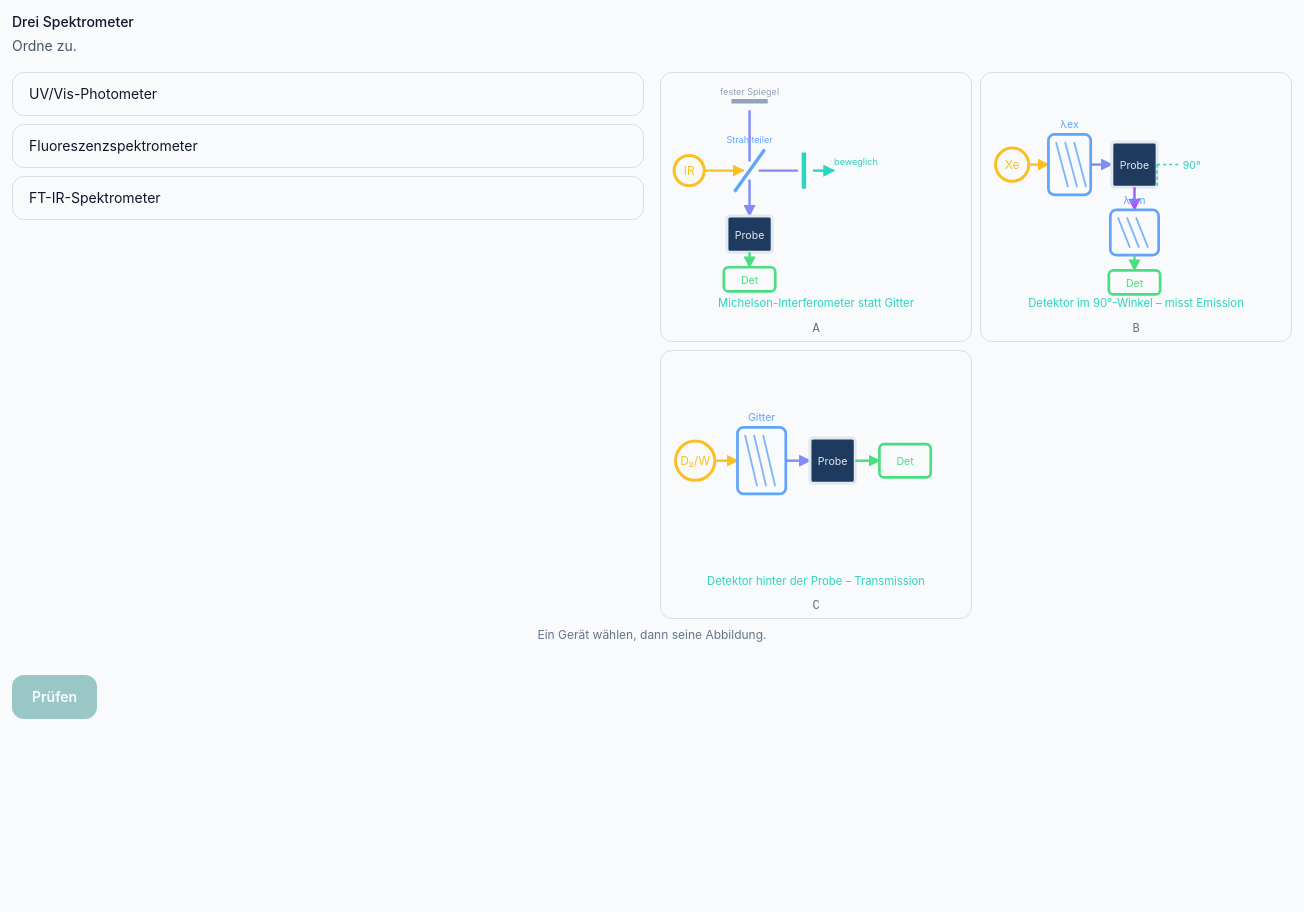
Test: Prüfen › zeigt bei einer falschen Zuordnung deren Hinweis
Click the button "UV/Vis-Photometer".
click(93, 94)  # box [12,72,644,116]
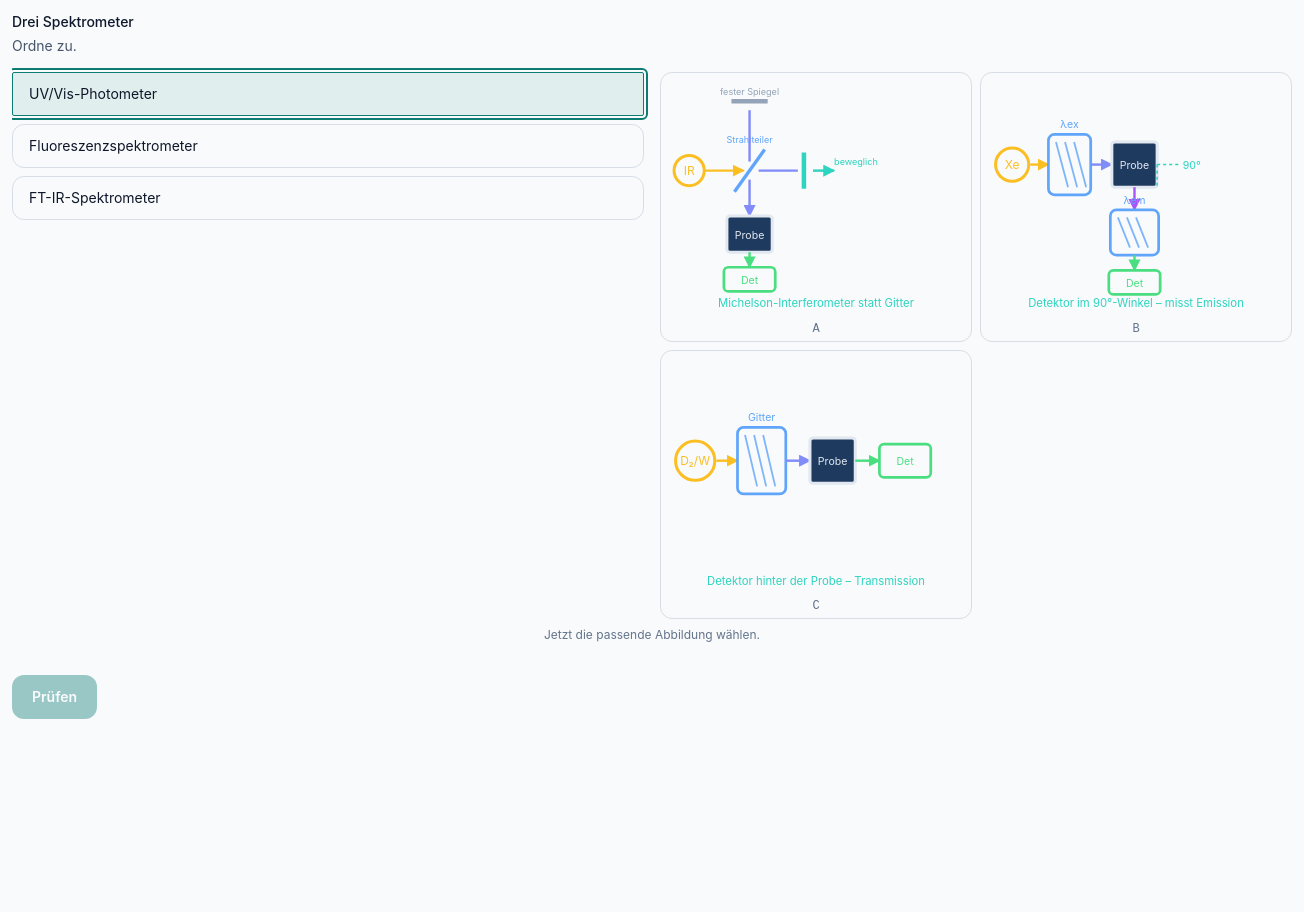
Click the button with aria-label "Abbildung A, noch nicht zugeordnet".
click(816, 207)  # box [660,72,972,342]
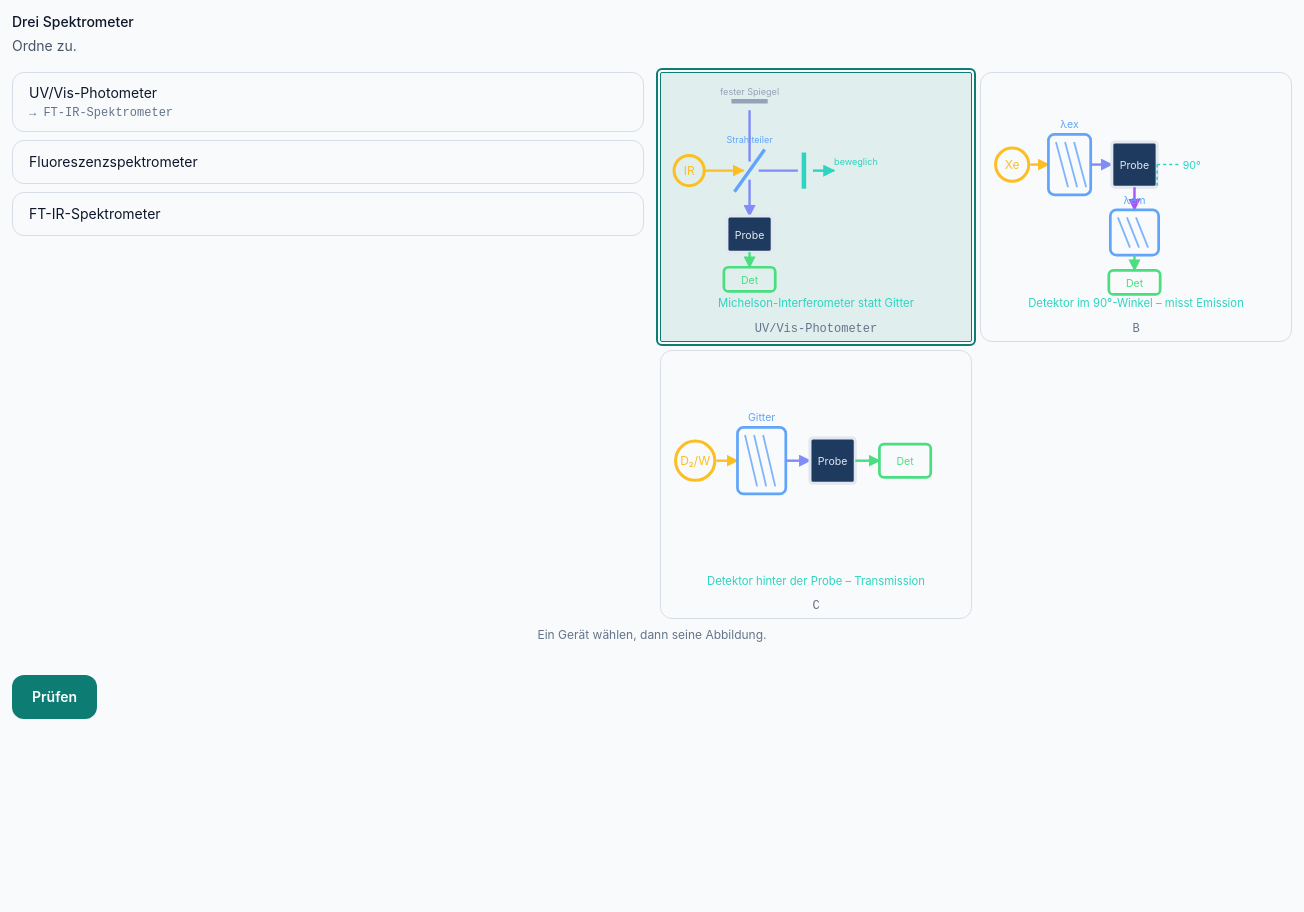
Click the button "Prüfen".
click(55, 697)  # box [12,675,97,719]
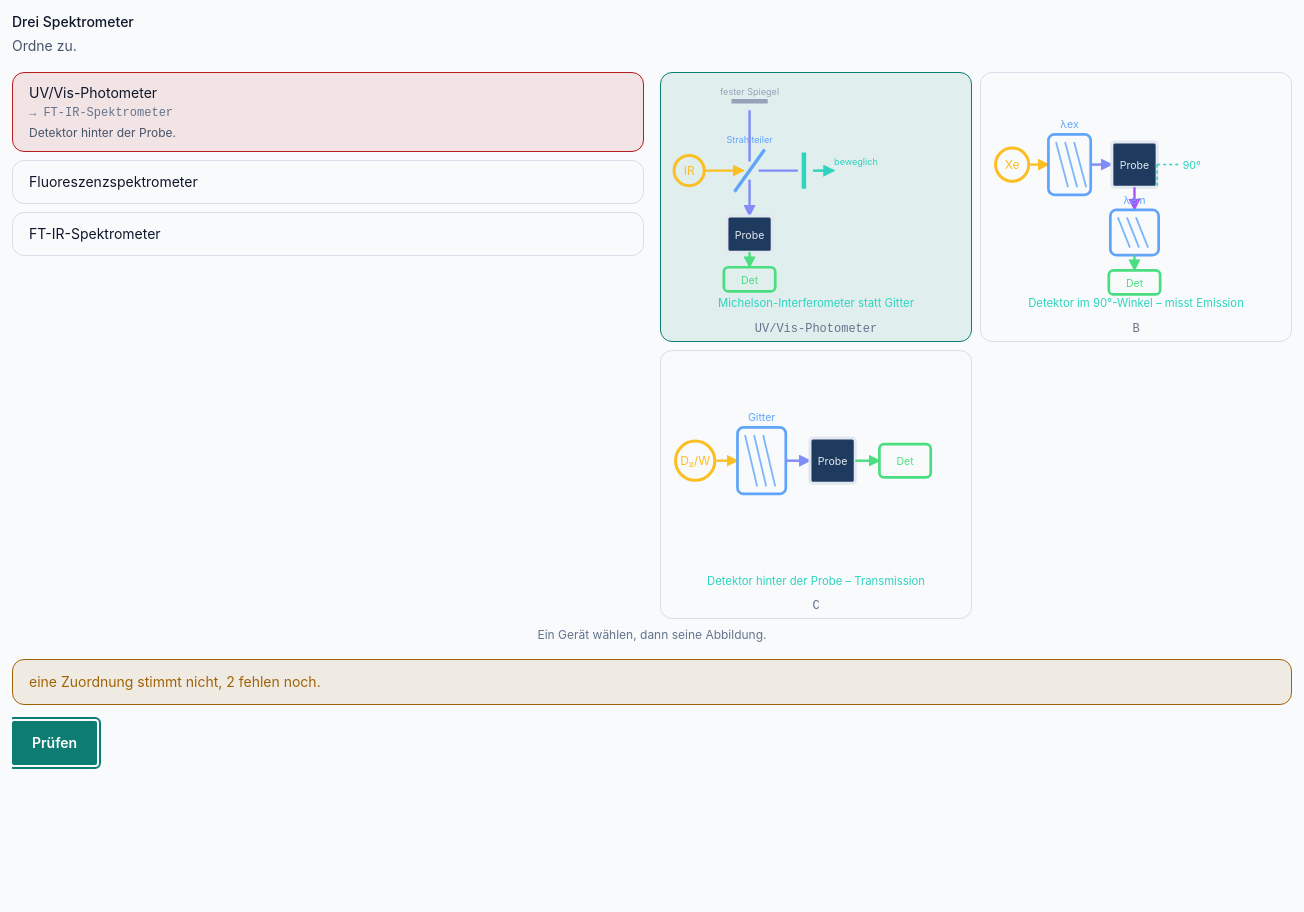
Result: the text "Detektor hinter der Probe." is shown at [29,125,176,140]
